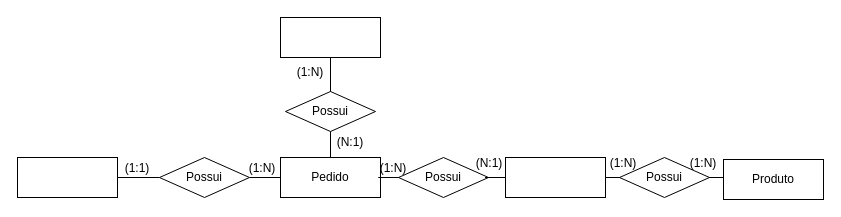
The diagram is 841 pixels wide and 217 high, and some of its shapes have lost their labels. The centre of each missing label's shape, as x and y in pixels:
"Cliente" belongs at [67,177].
"ItensPedido" belongs at [555,177].
"Pagamentos" belongs at [330,37].
